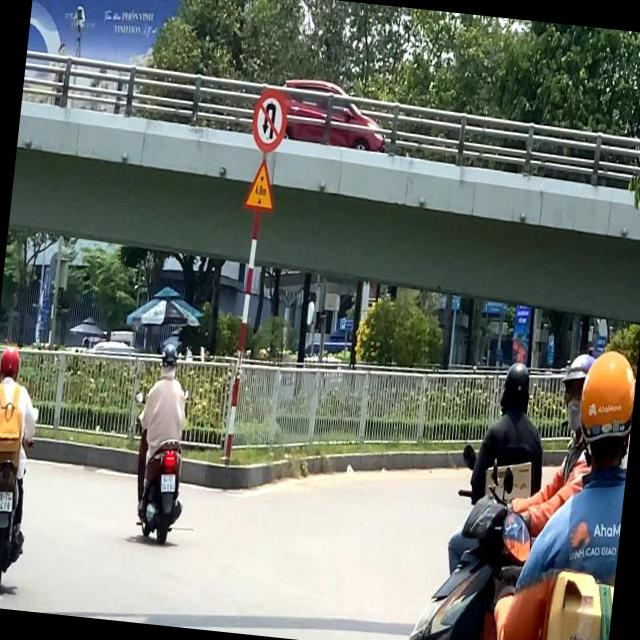P-124a1: (250, 87, 290, 155)
W-239b: (243, 156, 278, 212)
